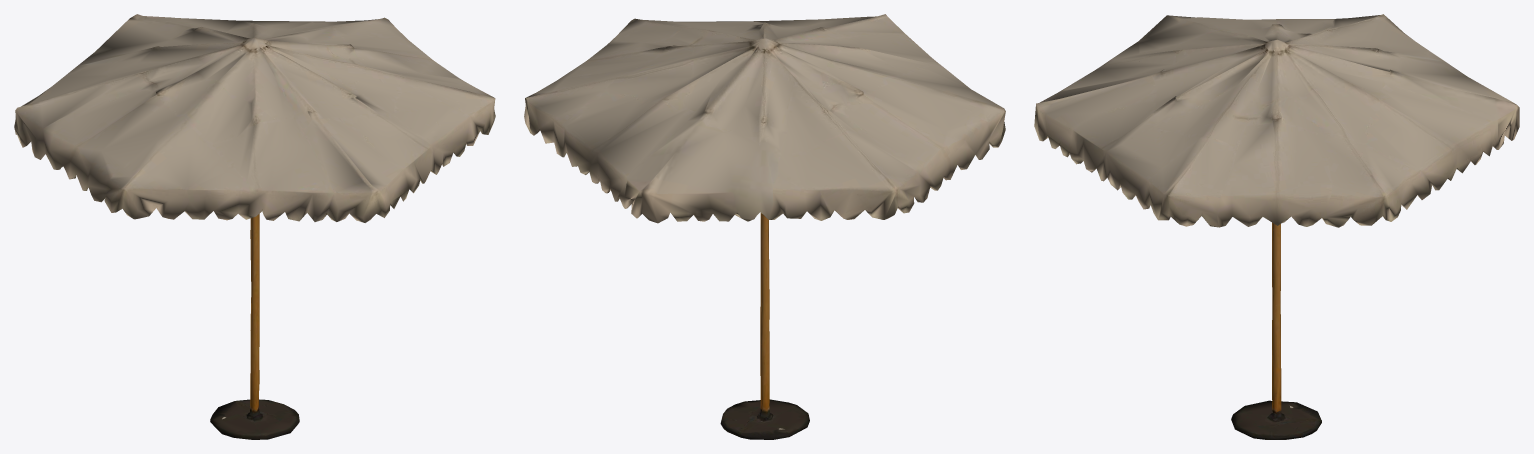
The model's file is parasol_lod1.glb.
3 views of the same model, side by side, from view 1: azimuth 30°, elevation 25°; view 2: azimuth 150°, elevation 25°; view 3: azimuth 270°, elevation 25° (orthographic).
Visible parts, largest first — view 1: tripo_node_c5fddceb-880e-443e-9858-cbbeee4b30f0; view 2: tripo_node_c5fddceb-880e-443e-9858-cbbeee4b30f0; view 3: tripo_node_c5fddceb-880e-443e-9858-cbbeee4b30f0.
Part boxes in pixels (x1,y1,x2,y2): tripo_node_c5fddceb-880e-443e-9858-cbbeee4b30f0: (14,14,495,439); tripo_node_c5fddceb-880e-443e-9858-cbbeee4b30f0: (524,14,1005,439); tripo_node_c5fddceb-880e-443e-9858-cbbeee4b30f0: (1034,14,1519,439).
Size of the model in its own units: 2.17 by 2.1 by 2.41.
1 material, 1 textured.
